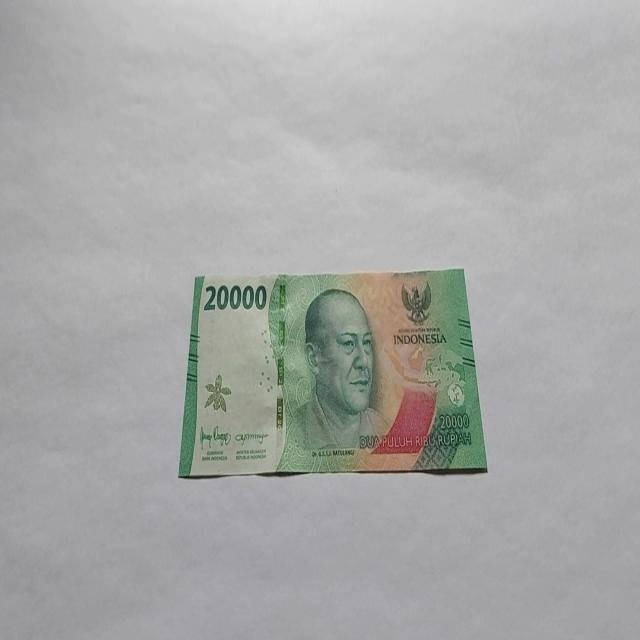dua puluh ribu rupiah: (178, 266, 488, 479)
